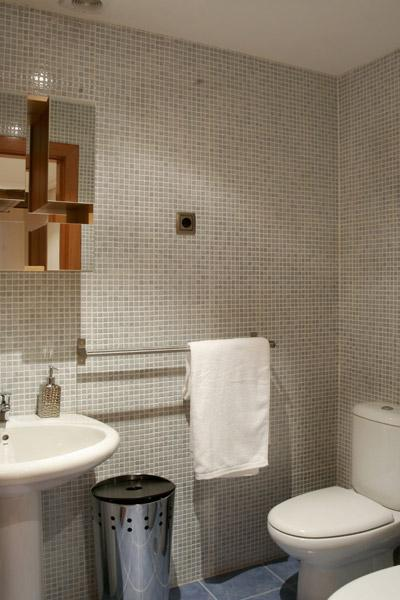Bote de Basura: (90, 476, 176, 593)
Lavamanos: (9, 412, 116, 595)
Sanitario: (269, 404, 398, 598)
